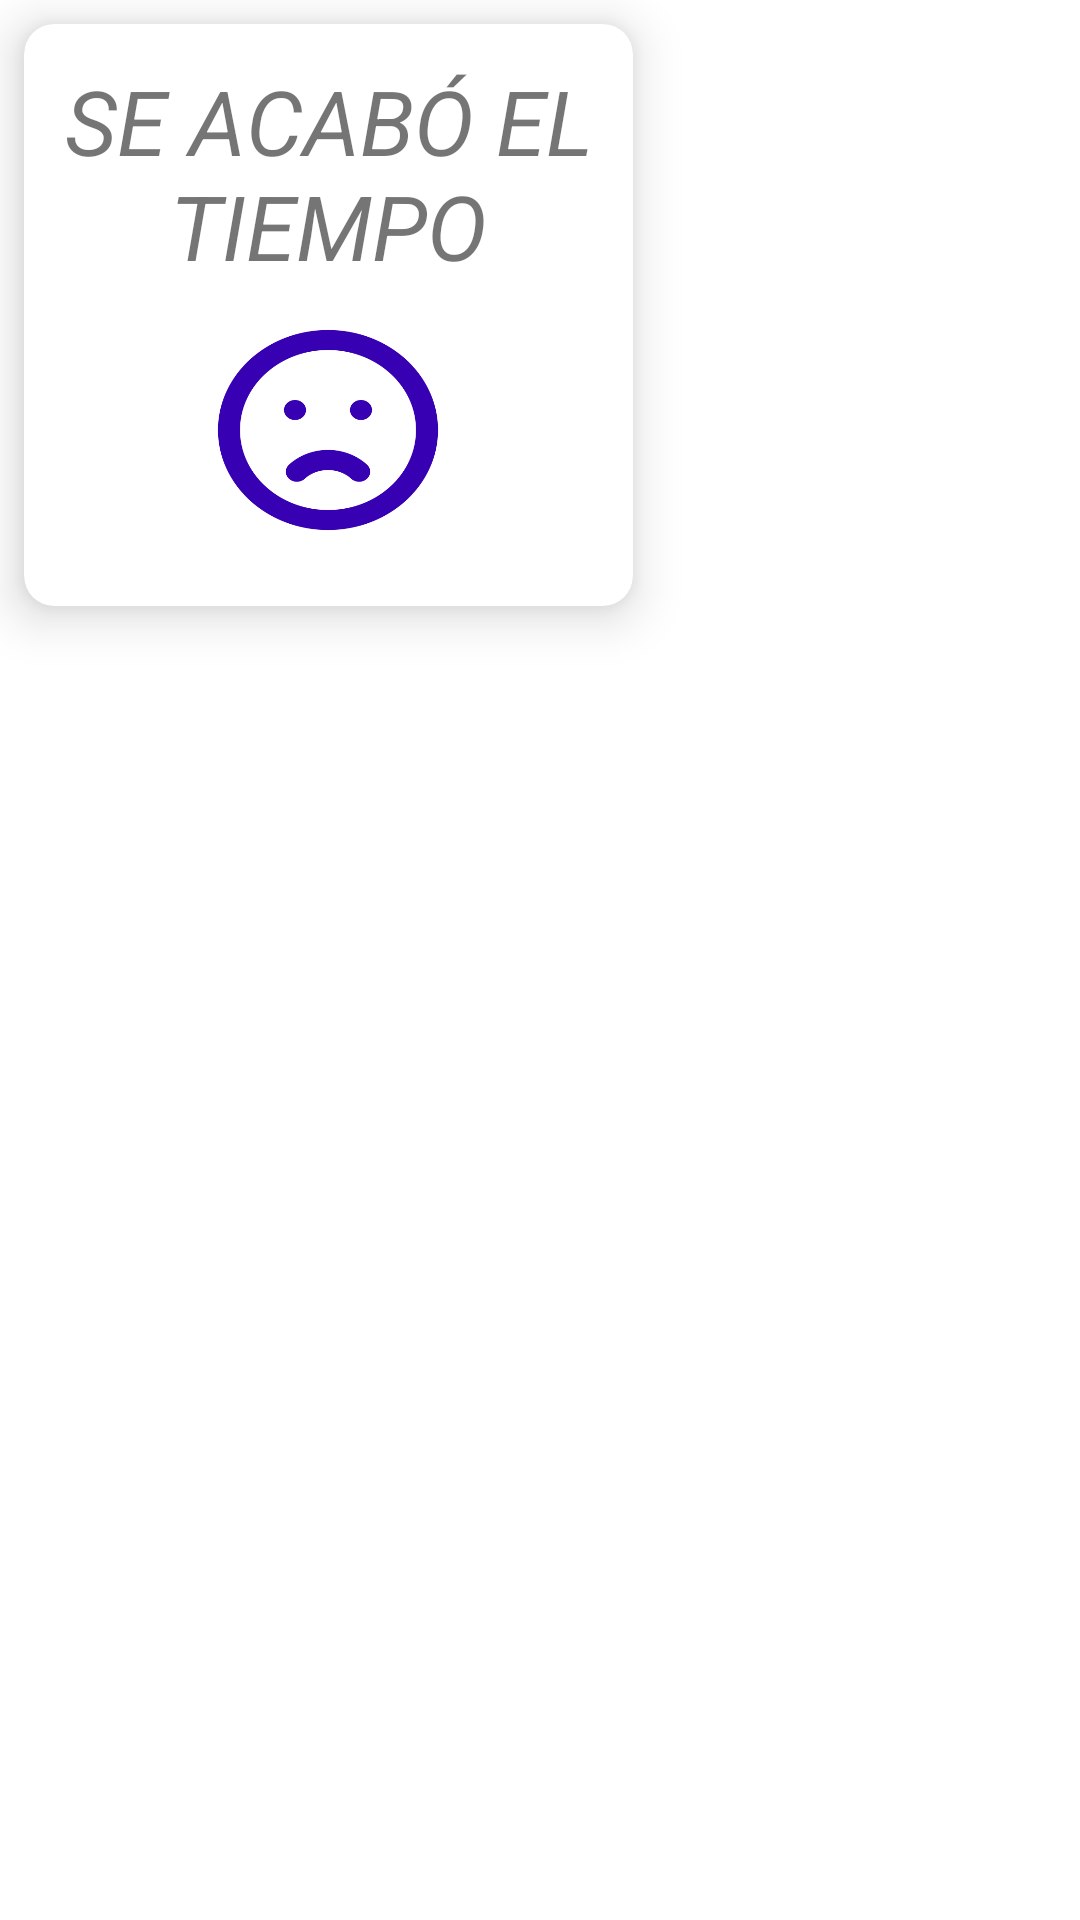

Named icons in this screenshot (1080*1920) and their bounding boxes, Rect(x1, y1, x2, y2):
iconfinder emotion sad: Rect(218, 330, 438, 530)
